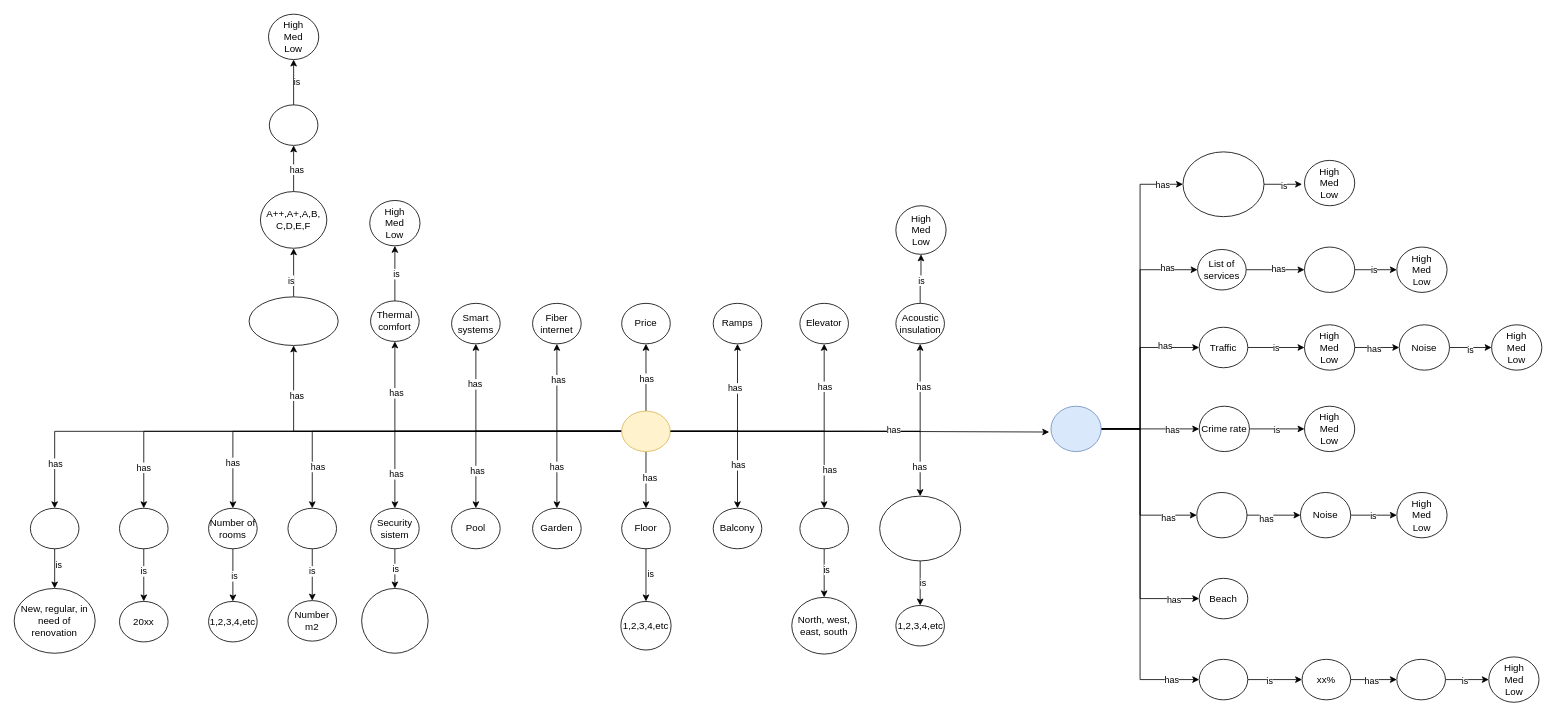
Some shapes in this 1556 by 717 pixel diagram are drawn without their labels. Each missing label, with the centre of its shape:
"Airport" goes at point 1221,515.
"Appreciation" goes at point 1223,679.
"Area" goes at point 312,528.
"Availability of services" goes at point 1329,269.
"Ease of parking" goes at point 1223,184.
"Energy class" goes at point 293,320.
"Energy efficiency" goes at point 293,124.
"Location" goes at point 1075,428.
"Non-existent, low, moderate, high" goes at point 394,620.
"Parking spaces" goes at point 920,528.
"Potential for appreciation" goes at point 1420,679.
"Property" goes at point 645,431.
"Solar orientation" goes at point 823,528.
"State" goes at point 54,528.
"Year of construction" goes at point 143,528.
